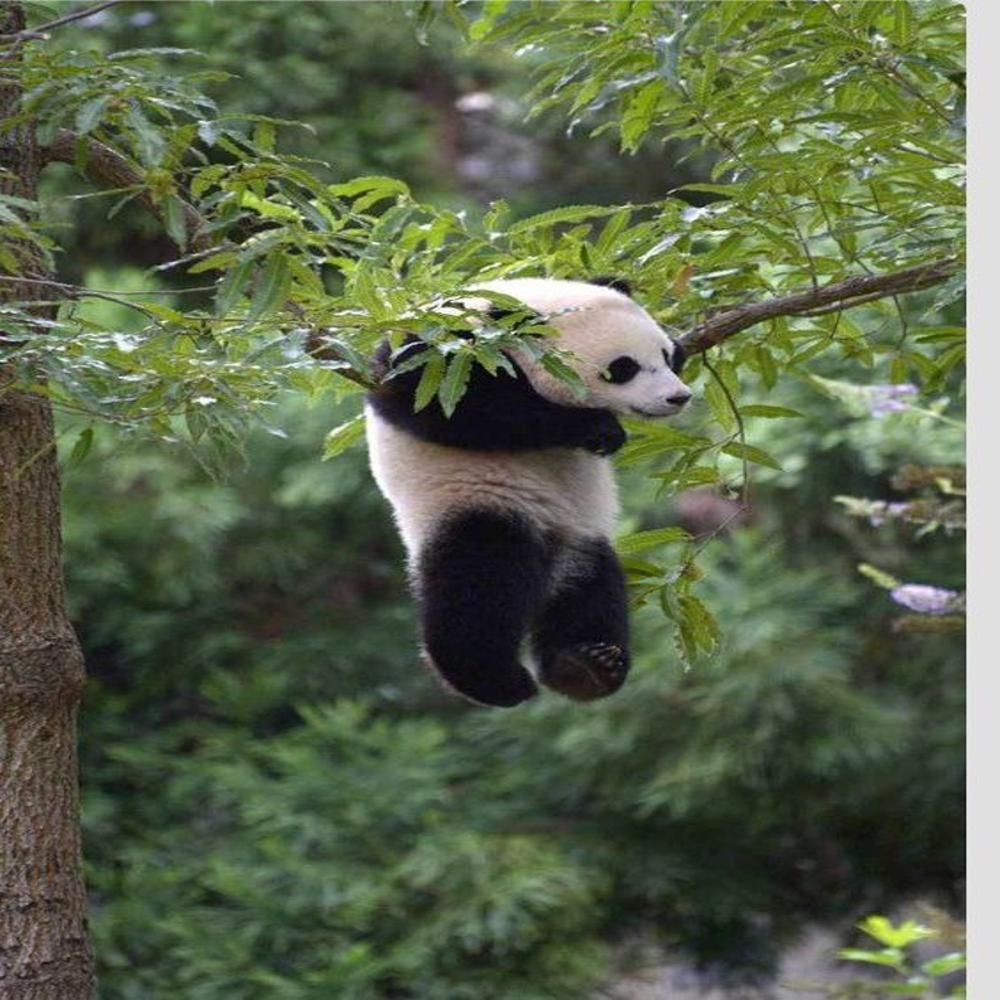panda: (368, 270, 691, 717)
